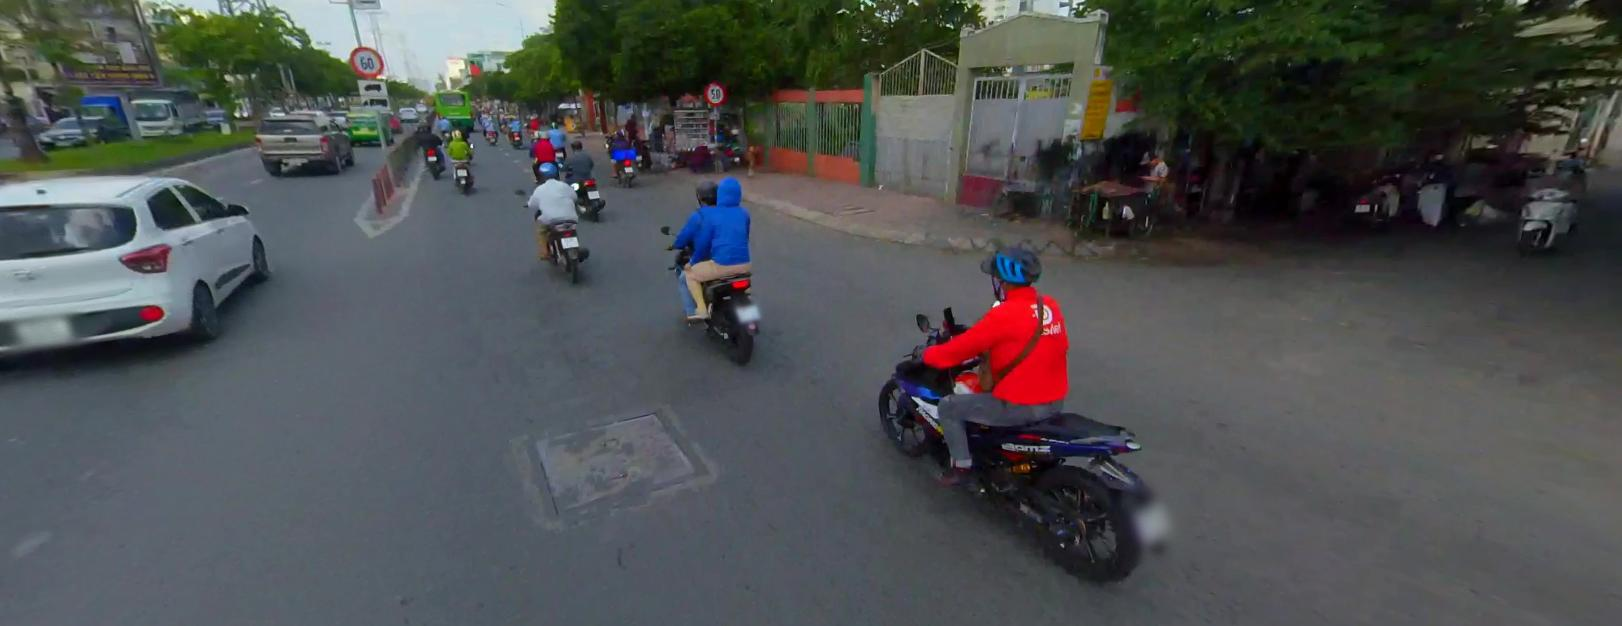Gioi han toc do: (348, 44, 385, 76), (703, 81, 726, 105)
